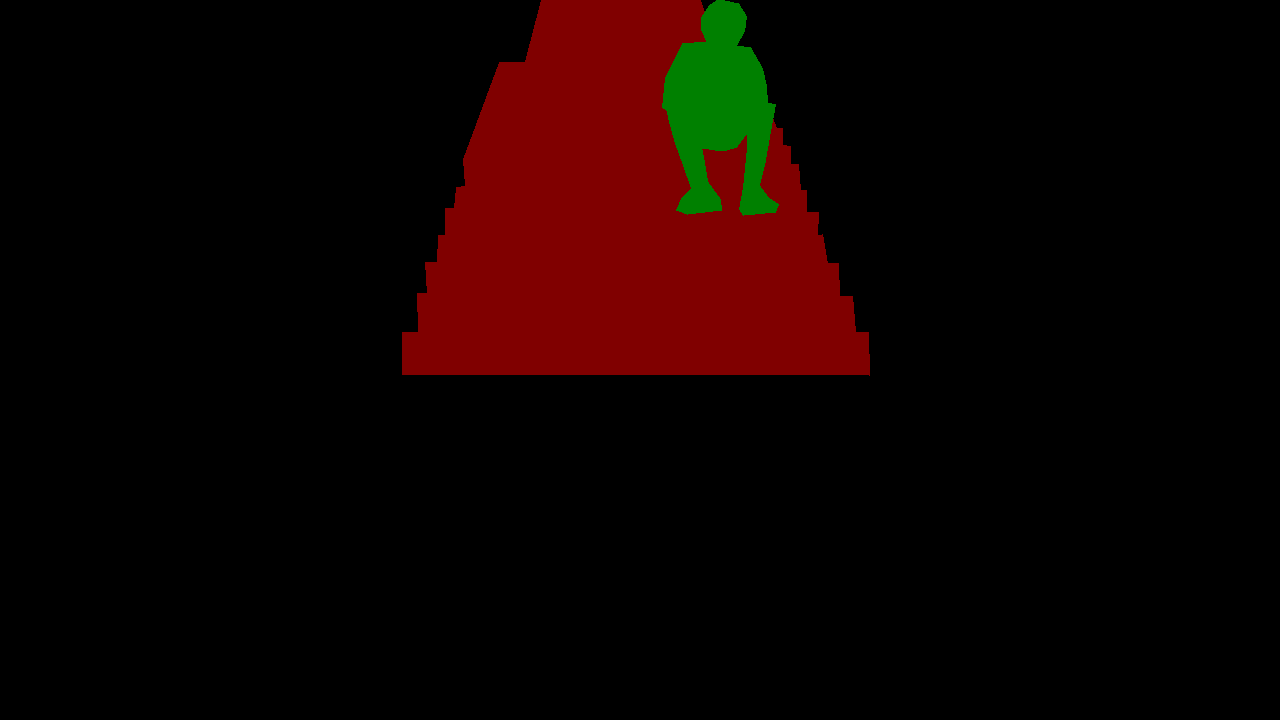person: (662, 0, 778, 215)
stair: (402, 0, 869, 375)
